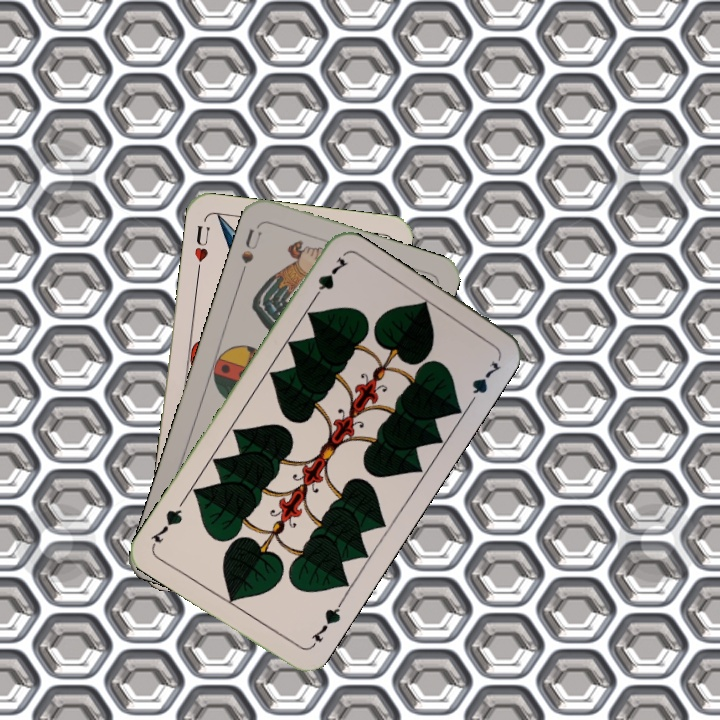G7: (307, 252, 351, 305), (306, 598, 345, 651)
HU: (190, 221, 212, 276)
SU: (236, 221, 265, 279)
